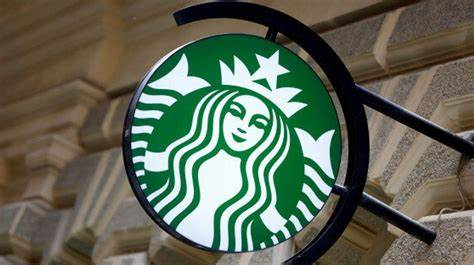starbucks Originale: (118, 31, 351, 258)
